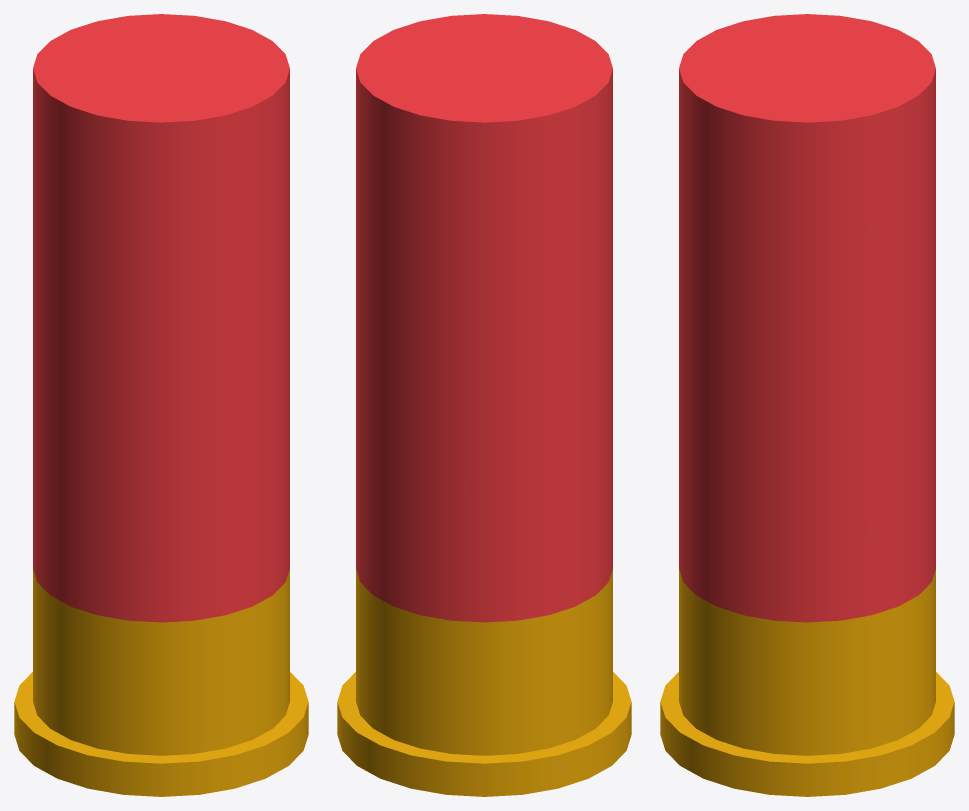
File: ammo_shotgun.dae
3 renders of one model, left to right at view 1: azimuth 30°, elevation 25°; view 2: azimuth 150°, elevation 25°; view 3: azimuth 270°, elevation 25°, orthographic.
Visible parts, largest first — view 1: ammo_shotgun; view 2: ammo_shotgun; view 3: ammo_shotgun.
Boxes of the visible parts, <box> form: ammo_shotgun: <box>14,14,308,796</box>; ammo_shotgun: <box>337,14,631,796</box>; ammo_shotgun: <box>660,14,954,796</box>.
Size of the model in its own units: 0.0306 by 0.0766 by 0.0306.
